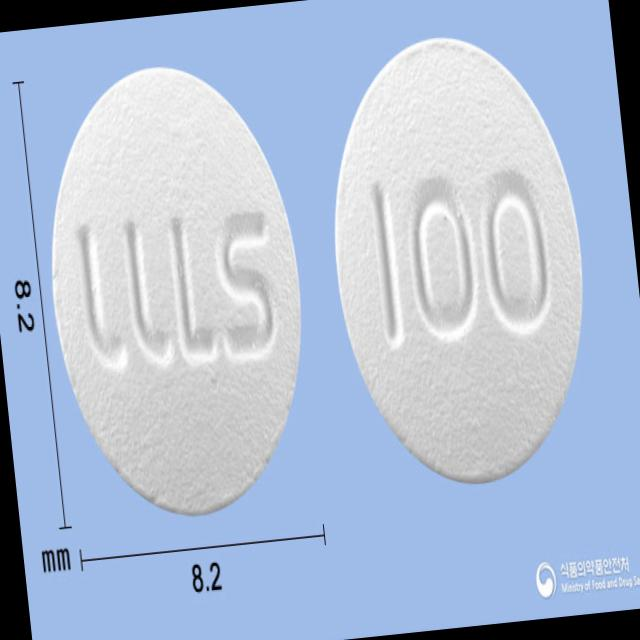Highloxin - 500mg: (28, 52, 324, 526), (314, 21, 606, 497)
